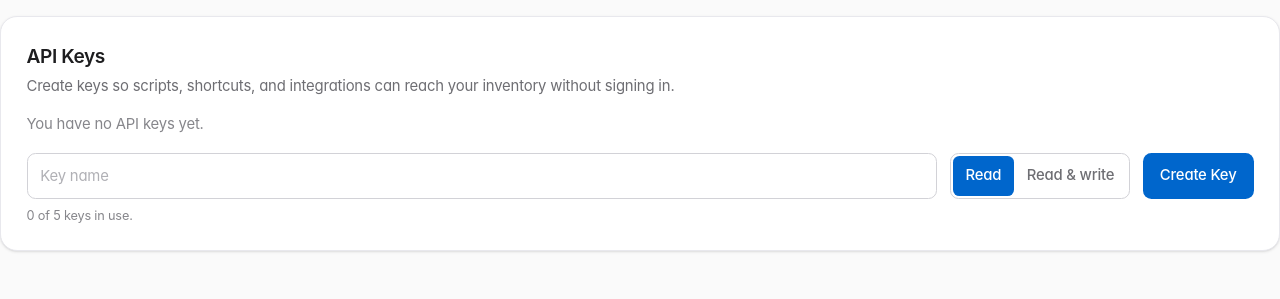
Test: ApiKeysSettings › creating a key › surfaces a create failure without showing a secret
Check: the text "You have no API keys yet." is shown, box [26,115,204,133]
Type "x" into the field named "new key name".
click(482, 176); type("x")  # box [26,152,937,199]
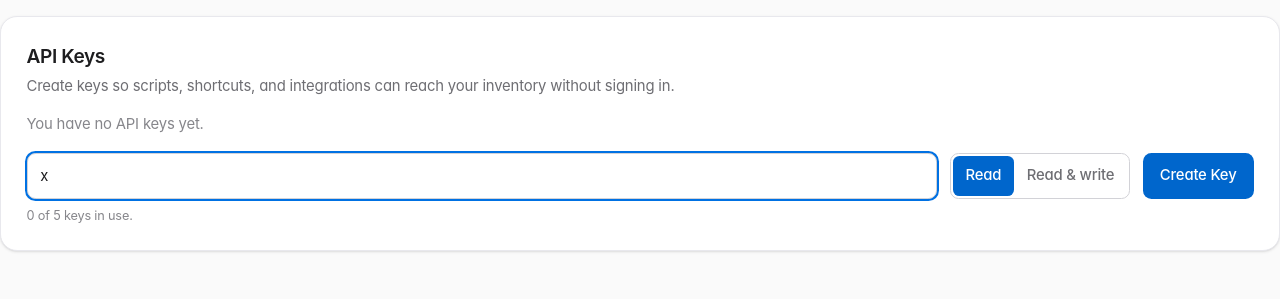
Click the button "Create Key".
click(1198, 176)  # box [1143,152,1254,199]
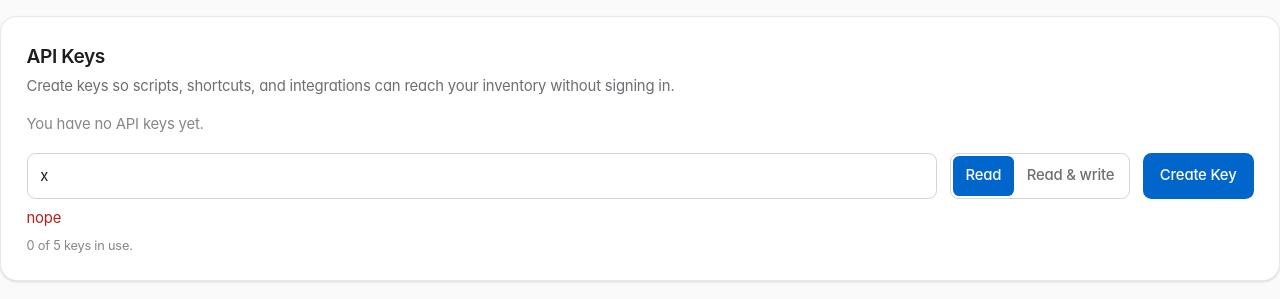
Check: the message "nope" is shown, box [26,209,61,227]
